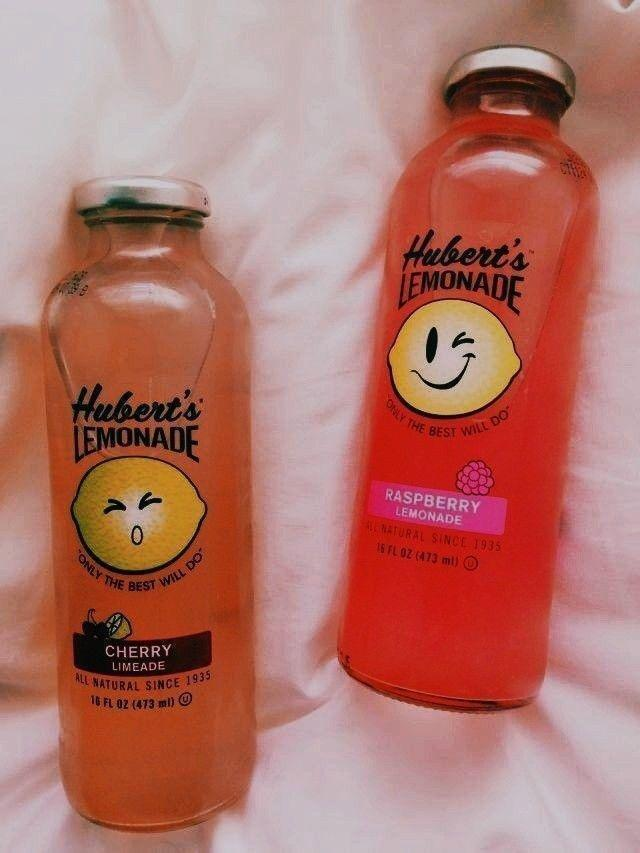bottle-glass: (332, 43, 602, 711), (43, 169, 259, 831)
